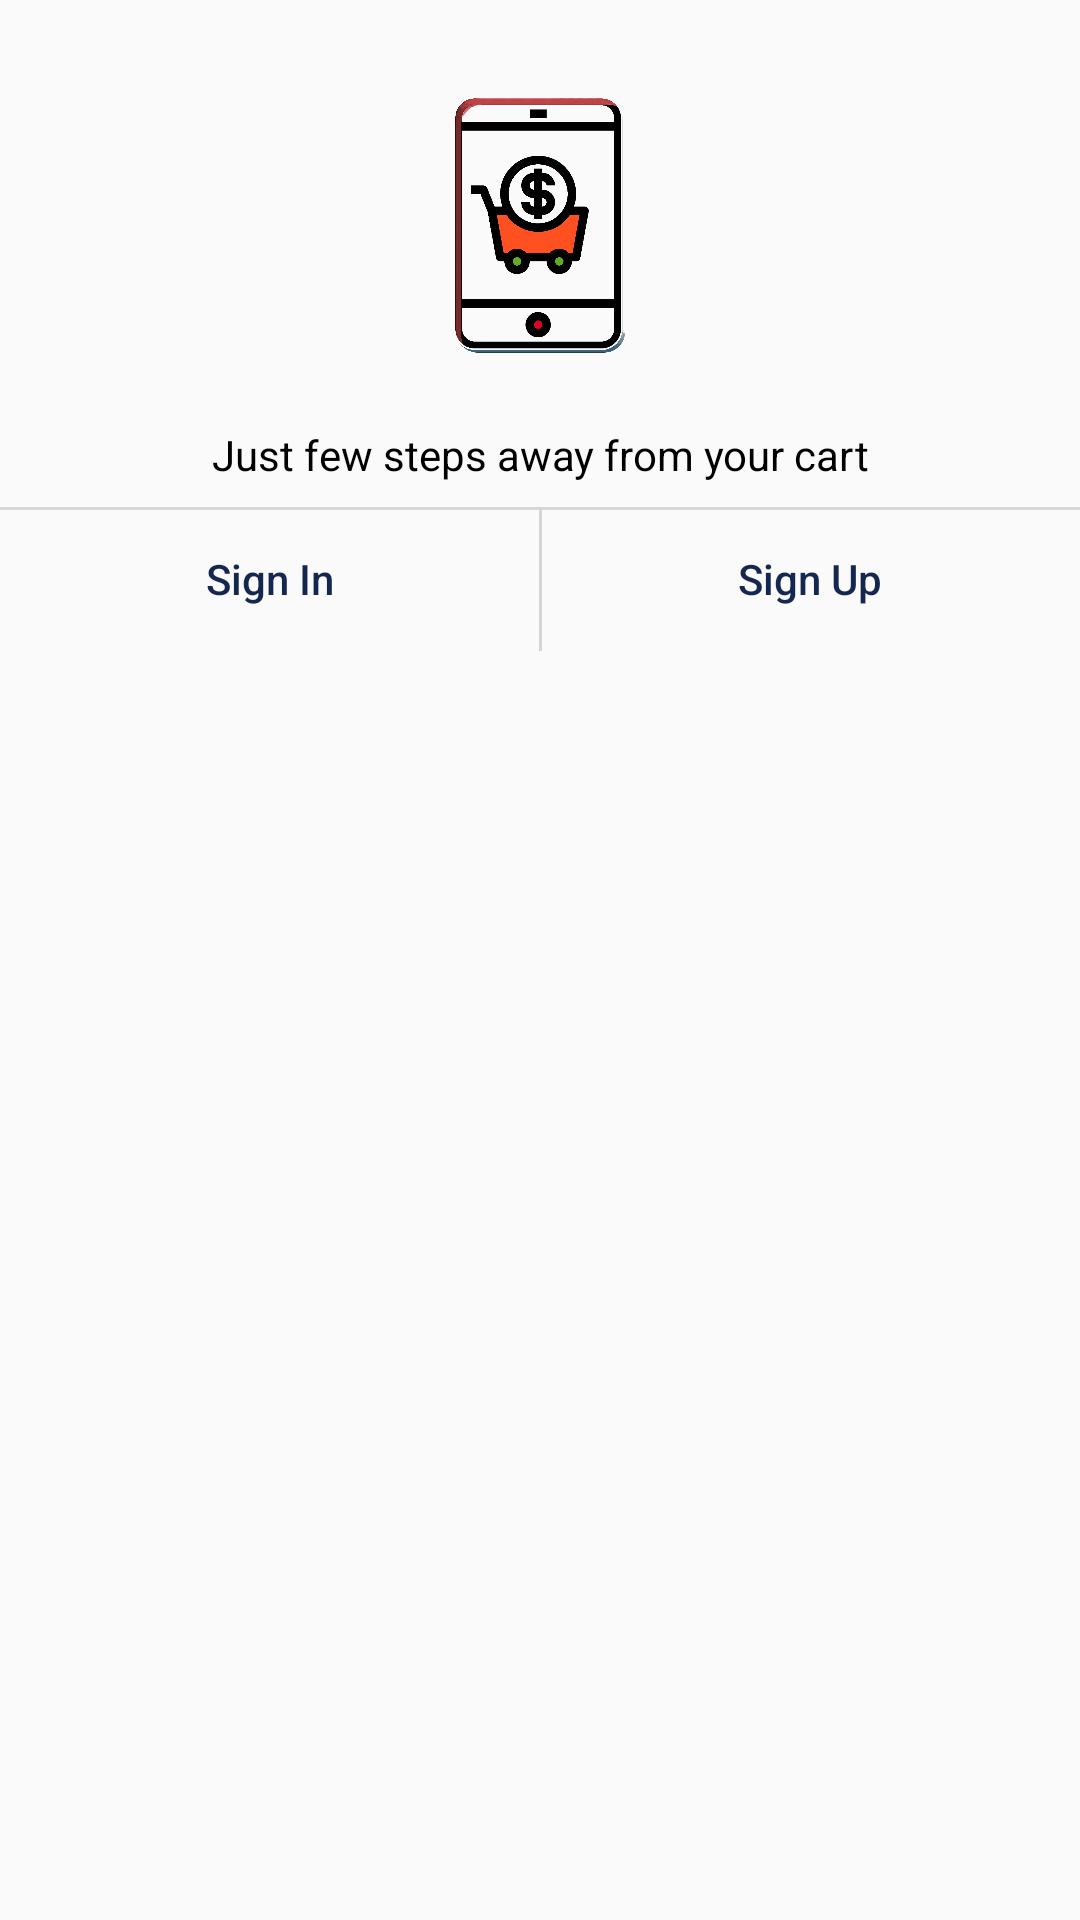

Screen size 1080 × 1920. Icon name, then its box in pixels as bbox=(x1, y1, x2, y2):
cartpicker: bbox=(455, 98, 625, 353)
